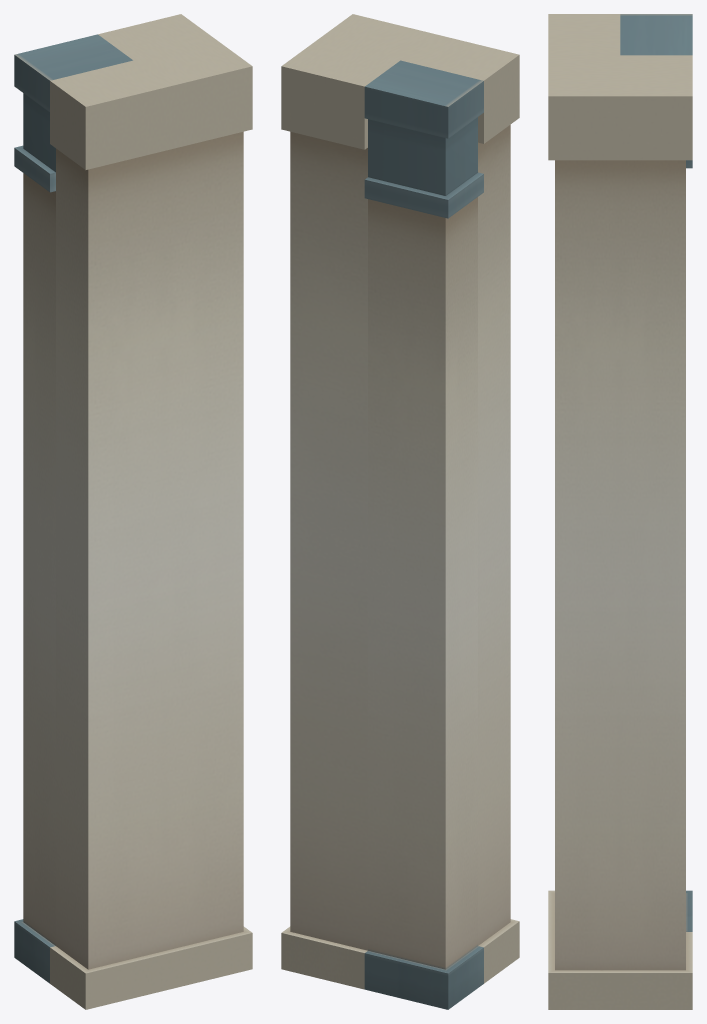
The model's file is SHW_Pillar_01_07.fbx.
The picture shows the model from 3 angles, left to right: view 1: azimuth 30°, elevation 25°; view 2: azimuth 150°, elevation 25°; view 3: azimuth 270°, elevation 25°; orthographic projection.
Visible parts, largest first — view 1: shw_pillar_01_07; view 2: shw_pillar_01_07; view 3: shw_pillar_01_07.
Part boxes in pixels (x1,y1,x2,y2): shw_pillar_01_07: (14,14,252,1009); shw_pillar_01_07: (281,14,519,1009); shw_pillar_01_07: (548,14,692,1009).
Bounding box in the file's own units: 58 × 300 × 43.
